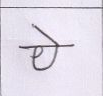e_matra: (32, 24, 61, 45)
